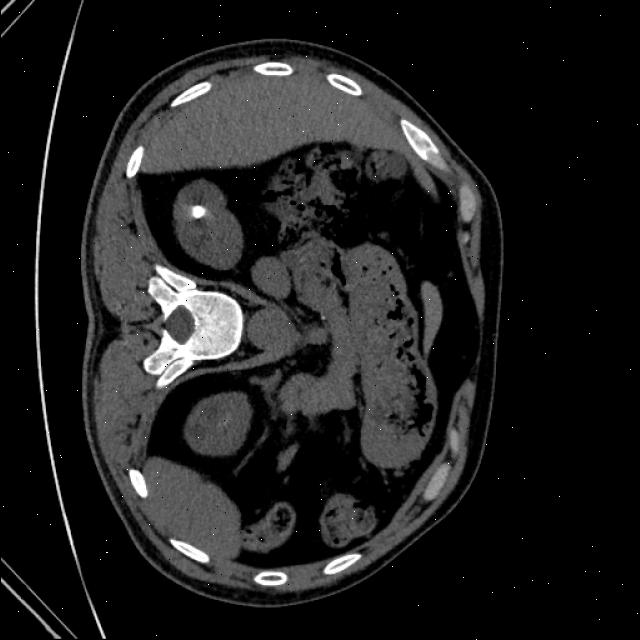kidneystone: (191, 205, 205, 219)
